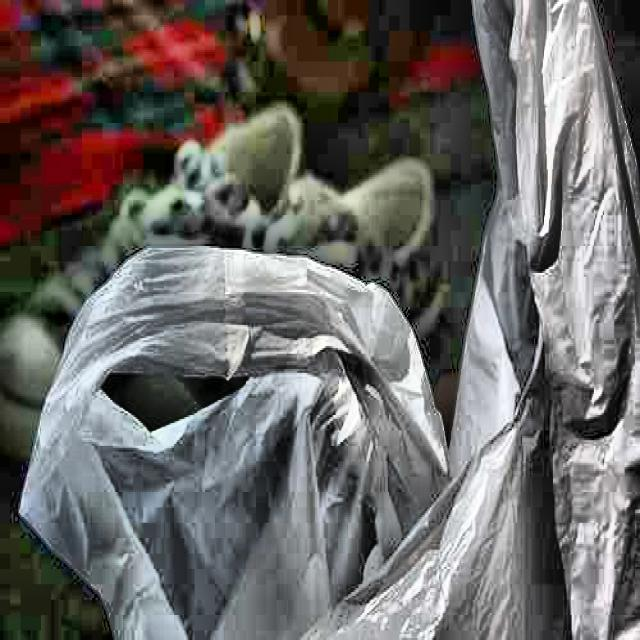Plastic: (20, 3, 640, 640)
